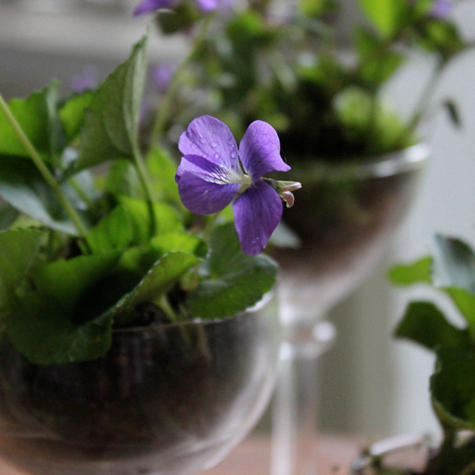violet: (173, 107, 299, 253)
